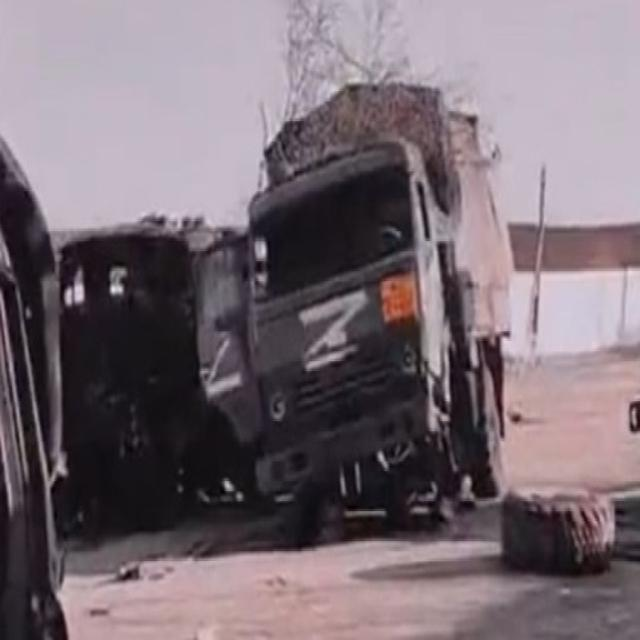TRUCK: (233, 80, 522, 551)
